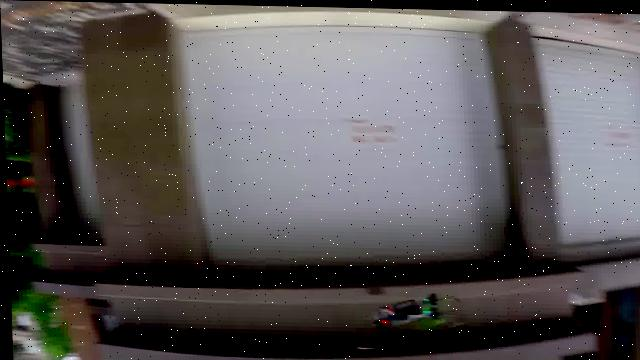drone: (350, 284, 468, 355)
